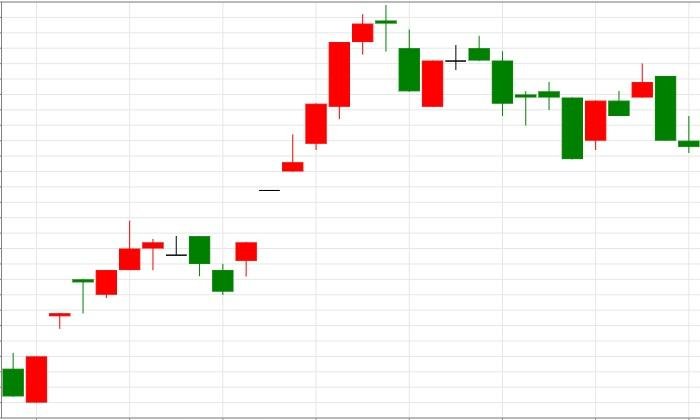evening_star_fall: (235, 5, 419, 276)
